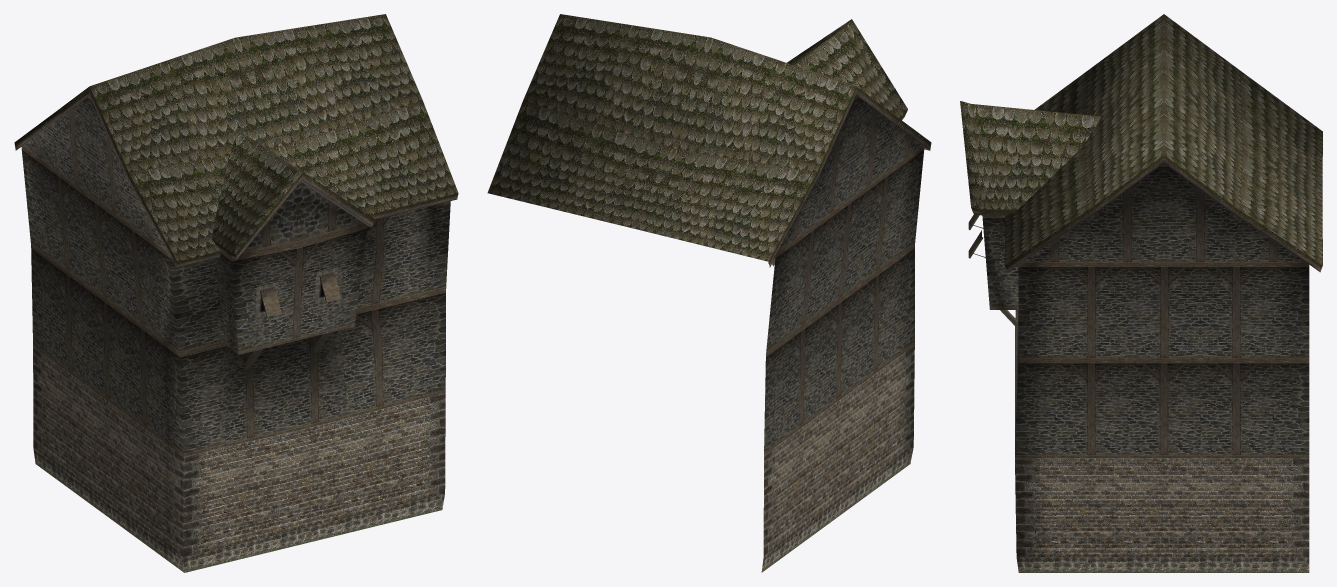
Rendered from OZ_09_kn_Lhouse01A.glb.
3 renders of one model, left to right at view 1: azimuth 30°, elevation 25°; view 2: azimuth 150°, elevation 25°; view 3: azimuth 270°, elevation 25°, orthographic. The views are drawn at different scales.
Parts seen in each view (by area): view 1: OM_09_kn_Lhouse01A; view 2: OM_09_kn_Lhouse01A; view 3: OM_09_kn_Lhouse01A.
Boxes of the visible parts, x1,y1,x2,y2 form: OM_09_kn_Lhouse01A: [14, 14, 458, 572]; OM_09_kn_Lhouse01A: [487, 14, 931, 572]; OM_09_kn_Lhouse01A: [960, 14, 1322, 572].
Bounding box in the file's own units: 13.78 × 20.02 × 14.99.
5 materials, 5 textured.
